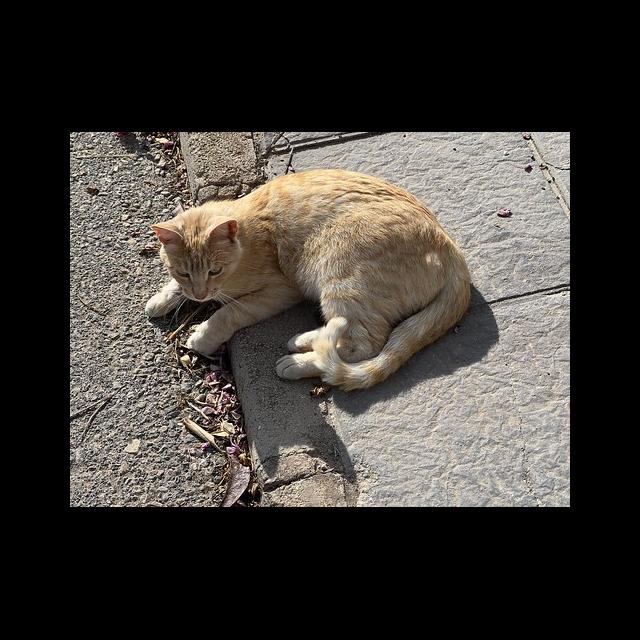animals: (145, 168, 471, 391)
